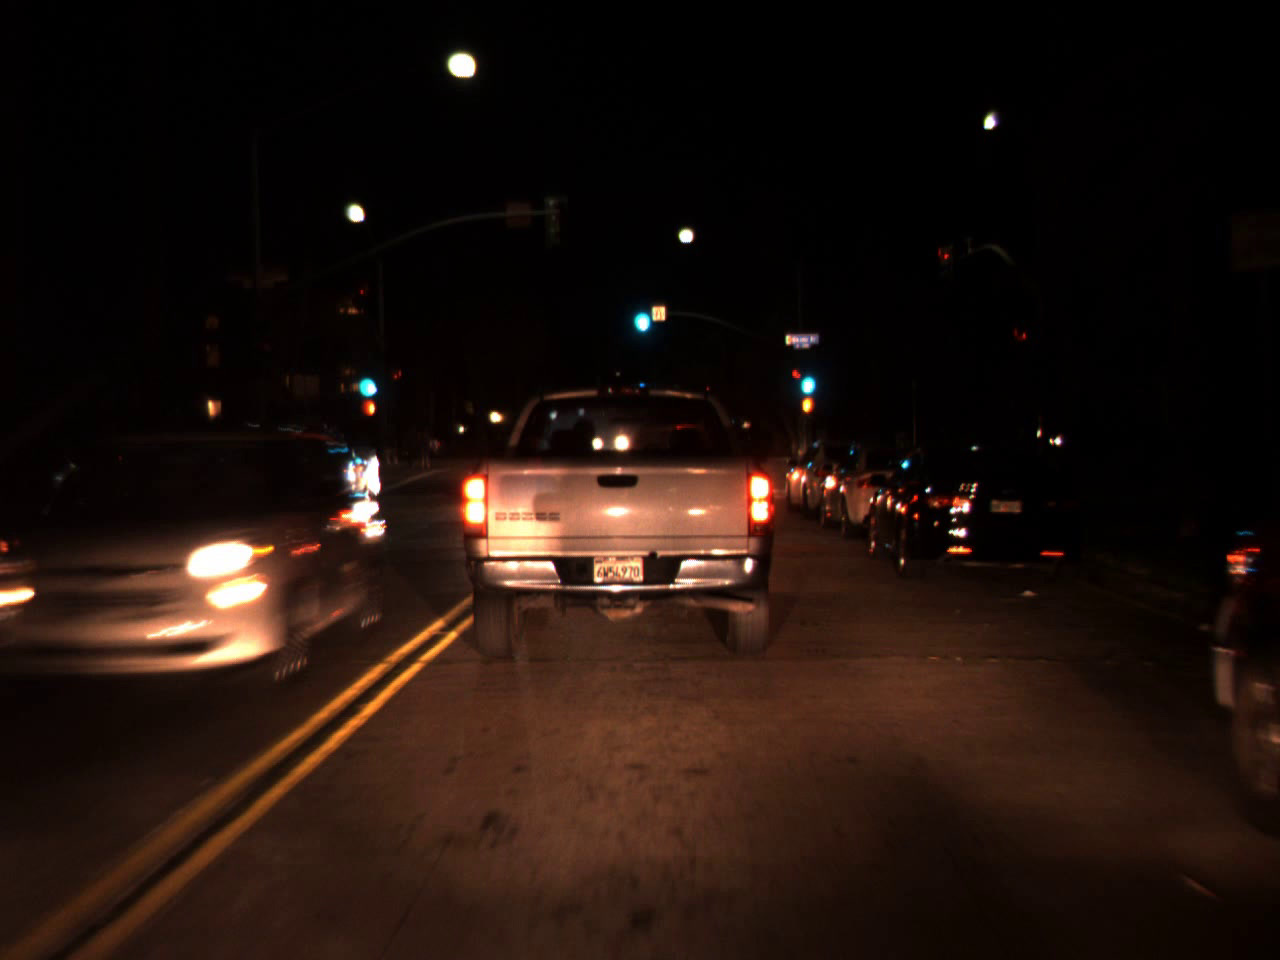go: (628, 288, 653, 339), (353, 356, 378, 404), (796, 354, 817, 402)
